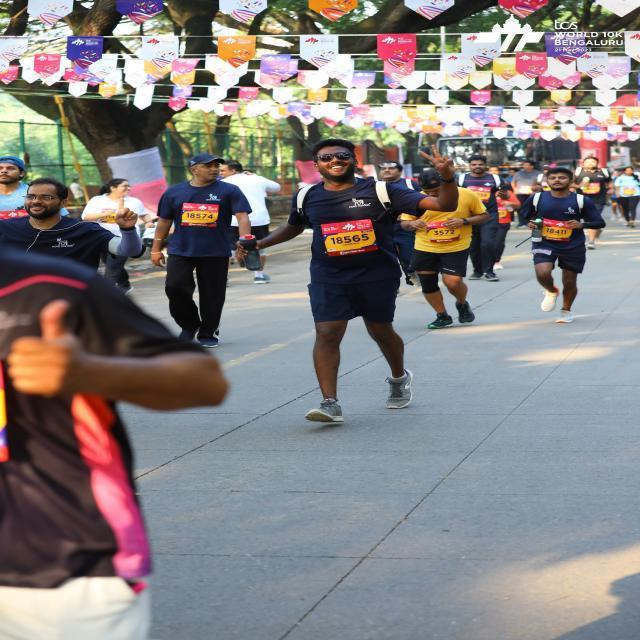dorsal: (317, 219, 378, 256), (182, 202, 220, 226), (538, 218, 574, 242), (424, 220, 461, 242)
